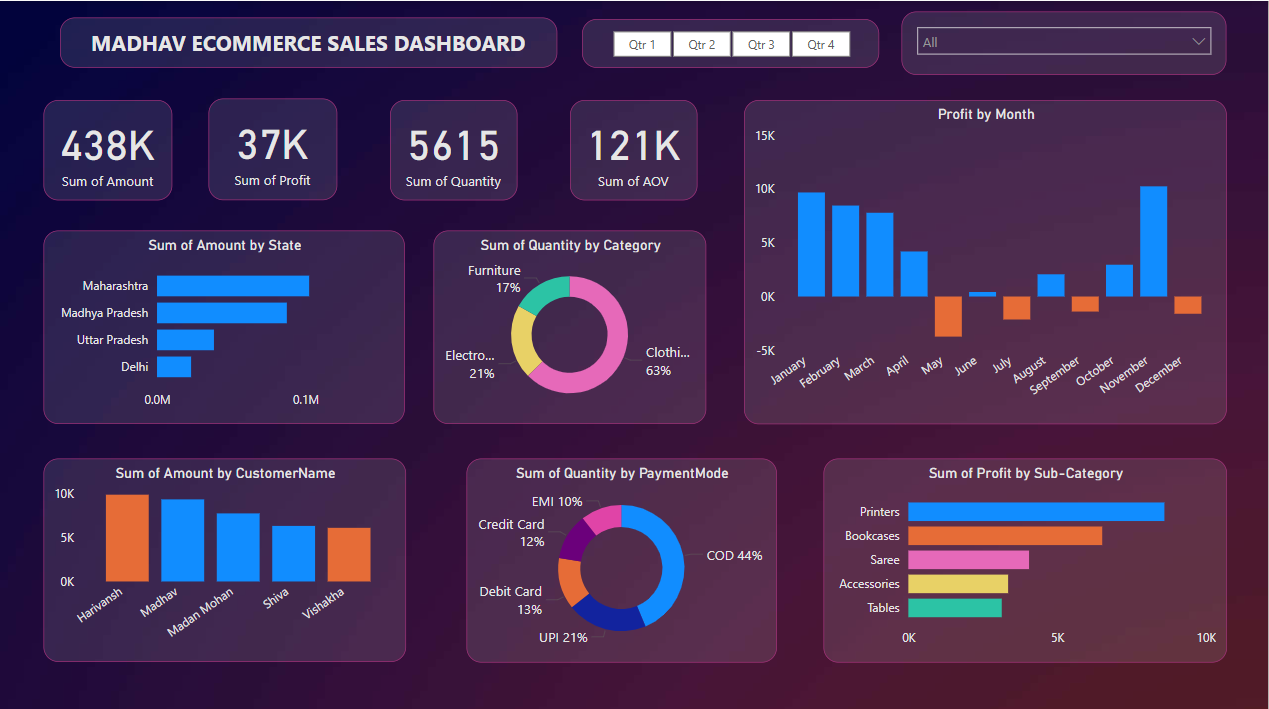

The dashboard page shown, as its layout file describes it:
{"tool":"powerbi","page":{"name":"Page 1","canvas":[1280,720],"ordinal":0},"visuals":[{"type":"textbox","box":[60.4,17,501.9,50.9],"z":0},{"type":"columnChart","title":"Profit by Month","fields":{"Y":["Details.Profit"],"Category":["Orders.Order Date.Variation.Date Hierarchy.Month"]},"box":[749.1,101.9,488.7,300],"z":1000},{"type":"barChart","fields":{"Category":["Details.Sub-Category"],"Y":["Details.Profit"]},"box":[830.2,445.3,407.5,222.6],"z":2000},{"type":"donutChart","fields":{"Category":["Details.Category"],"Y":["Details.Quantity"]},"box":[437.7,222.6,275.5,203.8],"z":3000},{"type":"donutChart","fields":{"Y":["Details.Quantity"],"Category":["Details.PaymentMode"]},"box":[458.5,462.3,313.2,205.7],"z":4000},{"type":"card","fields":{"Values":["Details.Amount"]},"box":[43.4,83,130.2,101.9],"z":5000},{"type":"card","fields":{"Values":["Details.Quantity"]},"box":[394.3,83,128.3,101.9],"z":6000},{"type":"card","fields":{"Values":["Details.Profit"]},"box":[211.3,83,130.2,103.8],"z":7000},{"type":"card","fields":{"Values":["Details.AOV"]},"box":[575.5,83,128.3,101.9],"z":8000},{"type":"barChart","fields":{"Category":["Orders.State"],"Y":["Details.Amount"]},"box":[43.4,209.4,366,217],"z":9000},{"type":"columnChart","fields":{"Category":["Orders.CustomerName"],"Y":["Details.Amount"]},"box":[43.4,462.3,366,205.7],"z":10000},{"type":"slicer","fields":{"Values":["Orders.Order Date.Variation.Date Hierarchy.Quarter"]},"box":[586.8,18.9,300,49.1],"z":11000},{"type":"slicer","fields":{"Values":["Orders.State"]},"box":[909.4,11.3,328.3,64.2],"z":11001}]}

Visuals, with their boxes in screenshot pixels (x1, y1, x2, y2), scaled from the page's 1280x720 canvas onto the 1269x709 screenshot:
textbox: {"left": 60, "top": 17, "right": 557, "bottom": 67}
"Profit by Month" columnChart: {"left": 743, "top": 100, "right": 1227, "bottom": 396}
barChart - Details.Sub-Category x Details.Profit: {"left": 823, "top": 438, "right": 1227, "bottom": 658}
donutChart - Details.Category x Details.Quantity: {"left": 434, "top": 219, "right": 707, "bottom": 420}
donutChart - Details.Quantity x Details.PaymentMode: {"left": 455, "top": 455, "right": 765, "bottom": 658}
card - Details.Amount: {"left": 43, "top": 82, "right": 172, "bottom": 182}
card - Details.Quantity: {"left": 391, "top": 82, "right": 518, "bottom": 182}
card - Details.Profit: {"left": 209, "top": 82, "right": 339, "bottom": 184}
card - Details.AOV: {"left": 571, "top": 82, "right": 698, "bottom": 182}
barChart - Orders.State x Details.Amount: {"left": 43, "top": 206, "right": 406, "bottom": 420}
columnChart - Orders.CustomerName x Details.Amount: {"left": 43, "top": 455, "right": 406, "bottom": 658}
slicer - Orders.Order Date.Variation.Date Hierarchy.Quarter: {"left": 582, "top": 19, "right": 879, "bottom": 67}
slicer - Orders.State: {"left": 902, "top": 11, "right": 1227, "bottom": 74}
